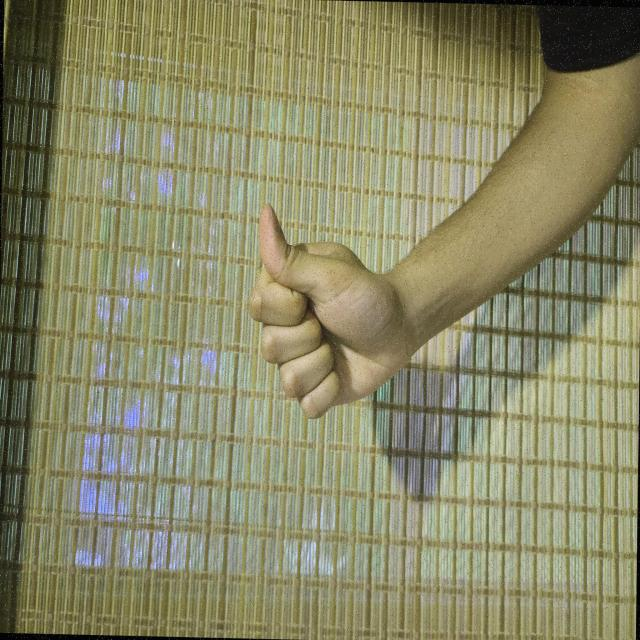A: (155, 320, 334, 566)
